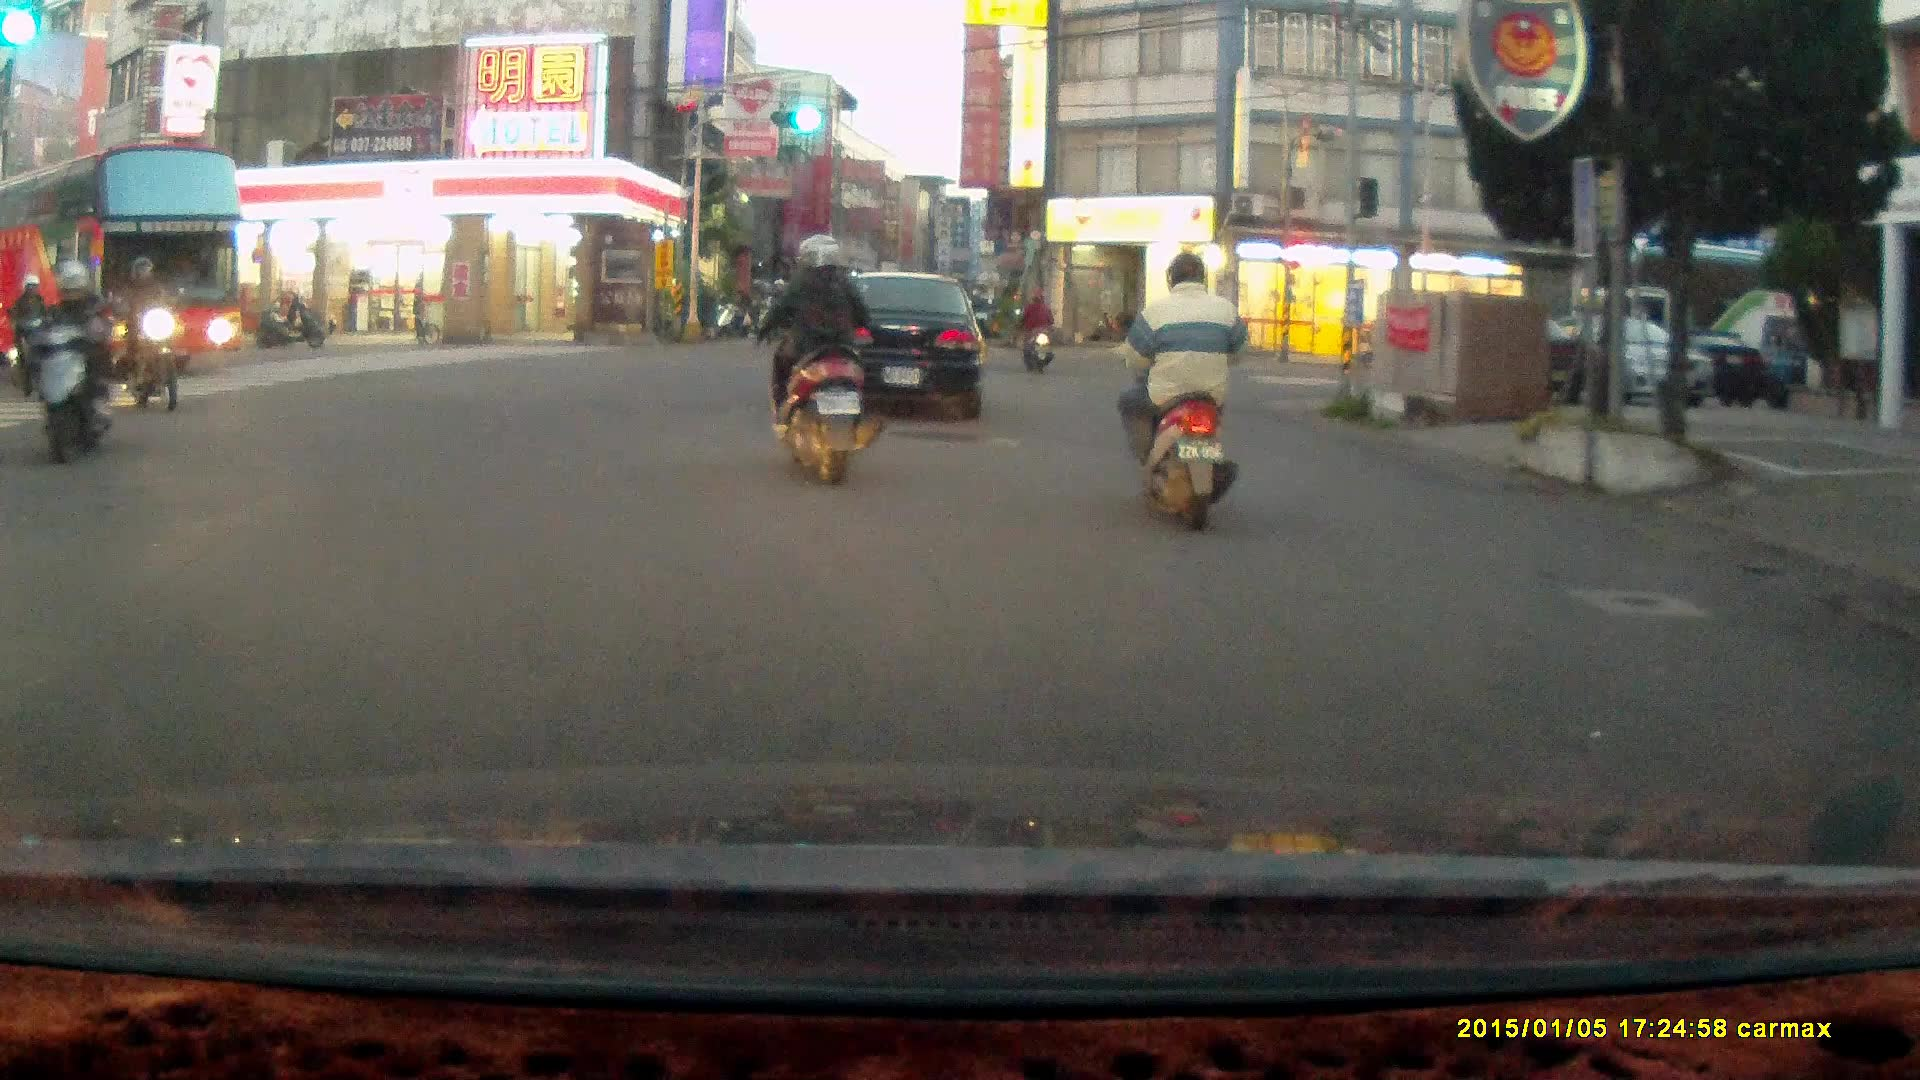rider: (1117, 254, 1238, 540), (757, 229, 886, 492), (27, 259, 114, 466), (106, 251, 176, 418), (1, 269, 57, 395), (1016, 292, 1055, 376)
vehicle: (1, 147, 238, 387), (1491, 311, 1720, 413)
